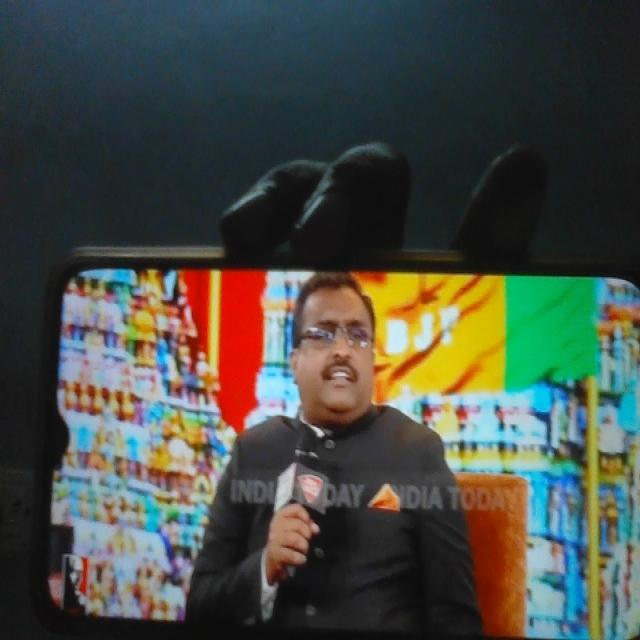fake: (285, 238, 393, 442)
